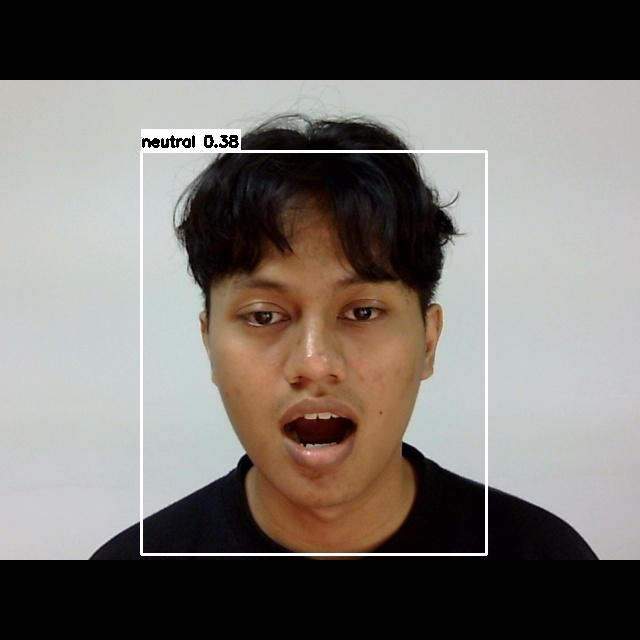Surprised: (199, 241, 439, 490)
